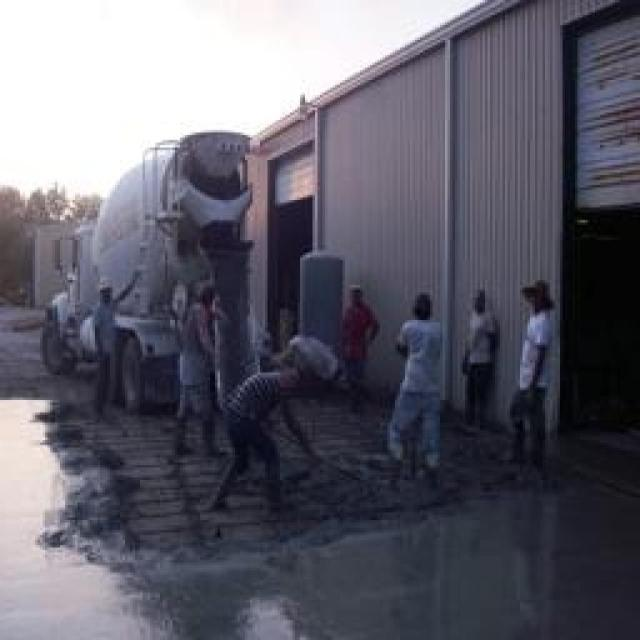Helmet: (396, 308, 444, 442), (226, 352, 298, 434), (516, 310, 568, 412), (332, 292, 376, 386), (460, 315, 508, 401), (170, 301, 220, 383), (75, 306, 127, 364), (520, 270, 562, 326), (401, 284, 442, 332), (288, 358, 328, 407), (188, 267, 218, 320), (464, 276, 492, 322), (92, 266, 115, 316), (343, 278, 376, 312)
